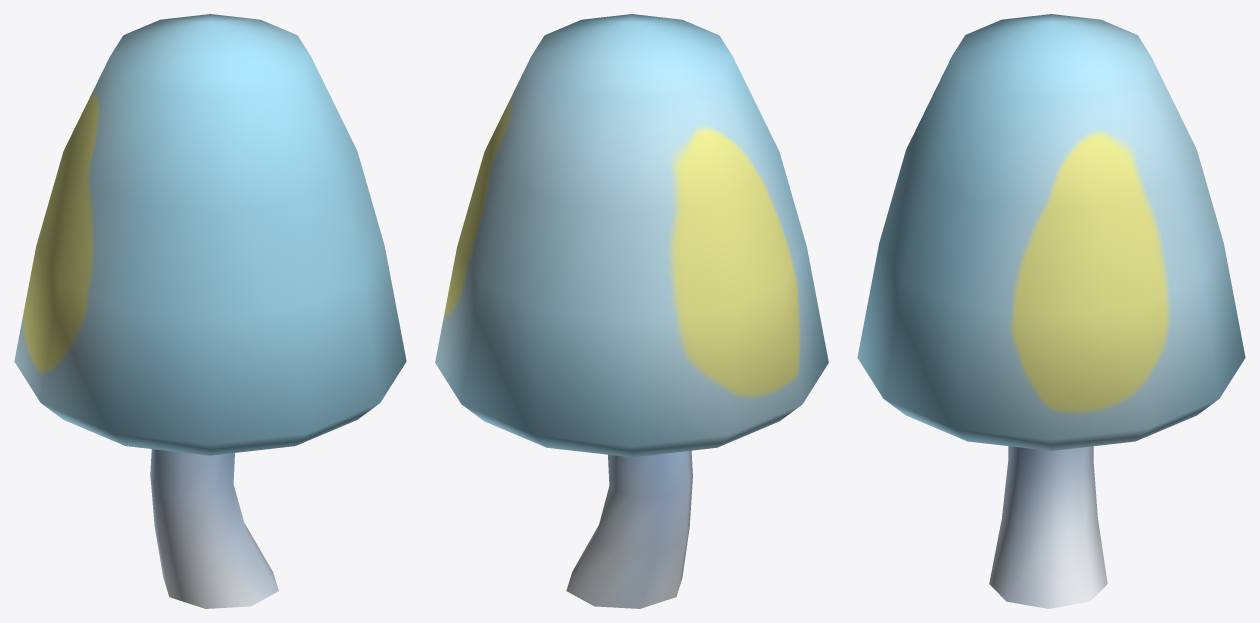
Rendered from BG1-3Boss.fbx.
The picture shows the model from 3 angles, left to right: view 1: azimuth 30°, elevation 25°; view 2: azimuth 150°, elevation 25°; view 3: azimuth 270°, elevation 25°; orthographic projection.
Parts seen in each view (by area): view 1: Cylinder009; view 2: Cylinder009; view 3: Cylinder009.
Boxes of the visible parts, bbox=[...] form: Cylinder009: bbox=[14, 14, 406, 608]; Cylinder009: bbox=[435, 14, 828, 608]; Cylinder009: bbox=[857, 14, 1245, 608].
Size of the model in its own units: 27.47 by 43.52 by 27.47.
Materials: 1 (1 with a texture image).
